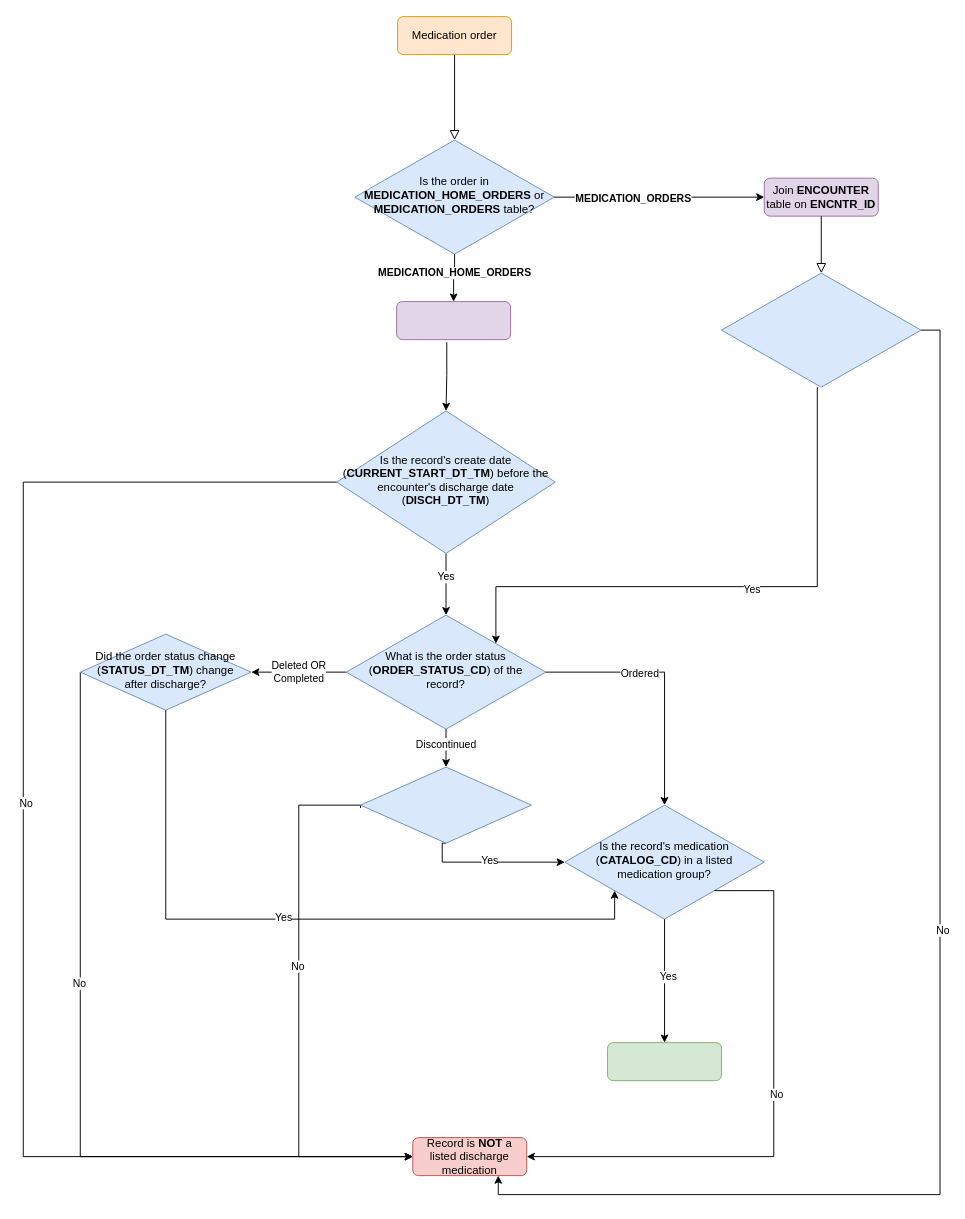
Image size: 965x1219. Some labels were removed from this diagram. The box of each missing label's shape, as (x1, y1, x2, y2) in pixels:
Is the order prescribed ( ORIG_ORD_FLAG = 1)?: (721, 272, 921, 387)
Join ENCOUNTER table on PERSON_ID: (396, 301, 511, 340)
Record is a listed discharge medication: (607, 1042, 722, 1081)
Was the order discontinued ( DISCONTINUE_EFFECTIVE_DT_TM ) after discharge?: (360, 766, 532, 843)
